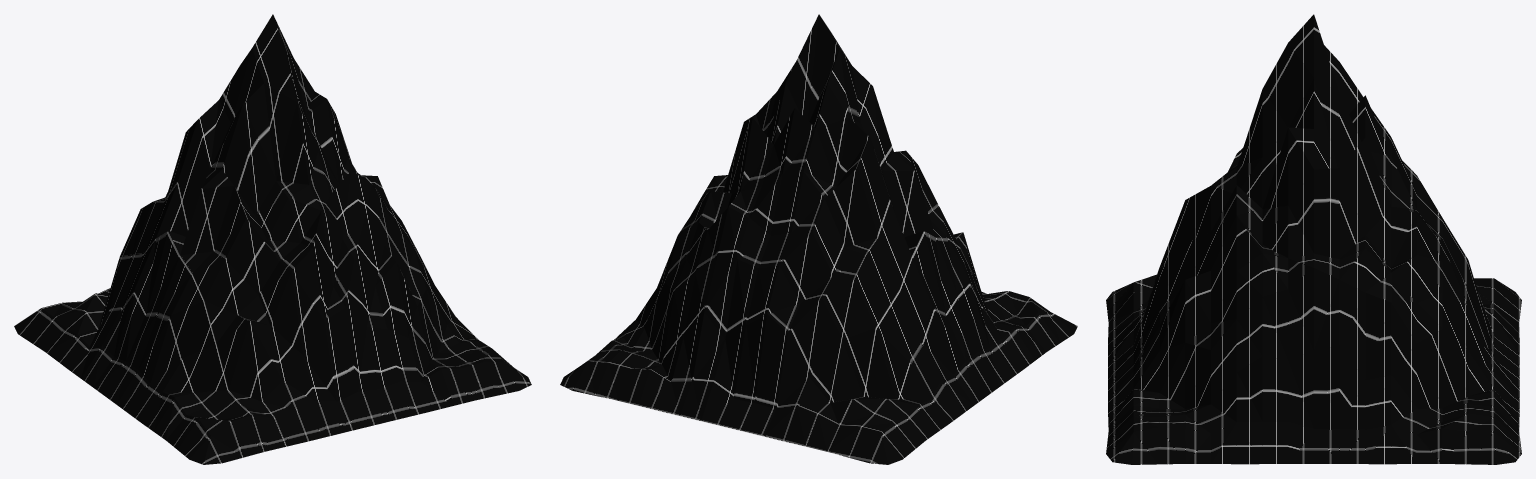
The model's file is Mesh_Mountain-01.fbx.
3 views of the same model, side by side, from view 1: azimuth 30°, elevation 25°; view 2: azimuth 150°, elevation 25°; view 3: azimuth 270°, elevation 25° (orthographic). The views are drawn at different scales.
Visible parts, largest first — view 1: Mesh_Mountain-01_LOD0; view 2: Mesh_Mountain-01_LOD0; view 3: Mesh_Mountain-01_LOD0.
Part boxes in pixels (x1,y1,x2,y2): Mesh_Mountain-01_LOD0: (14,14,531,464); Mesh_Mountain-01_LOD0: (560,14,1077,464); Mesh_Mountain-01_LOD0: (1106,14,1521,464).
Size of what is drawn, in the model's own units: 22.69 by 21.85 by 22.69.
